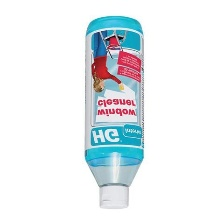cleaning_solution: (82, 13, 148, 211)
